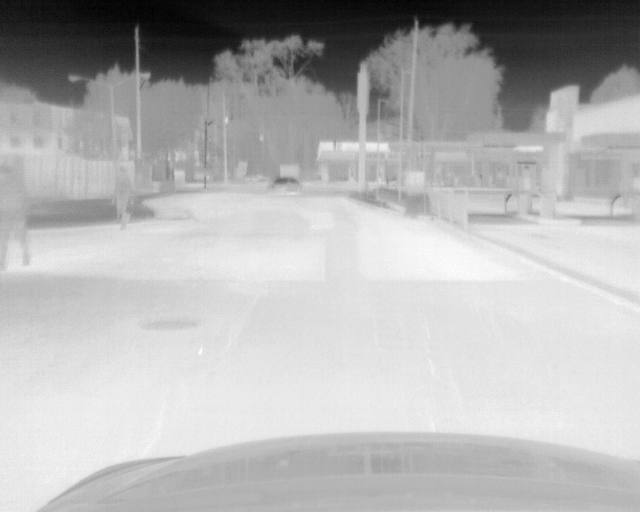car: (1, 162, 33, 270), (109, 163, 130, 231), (265, 177, 302, 198)
